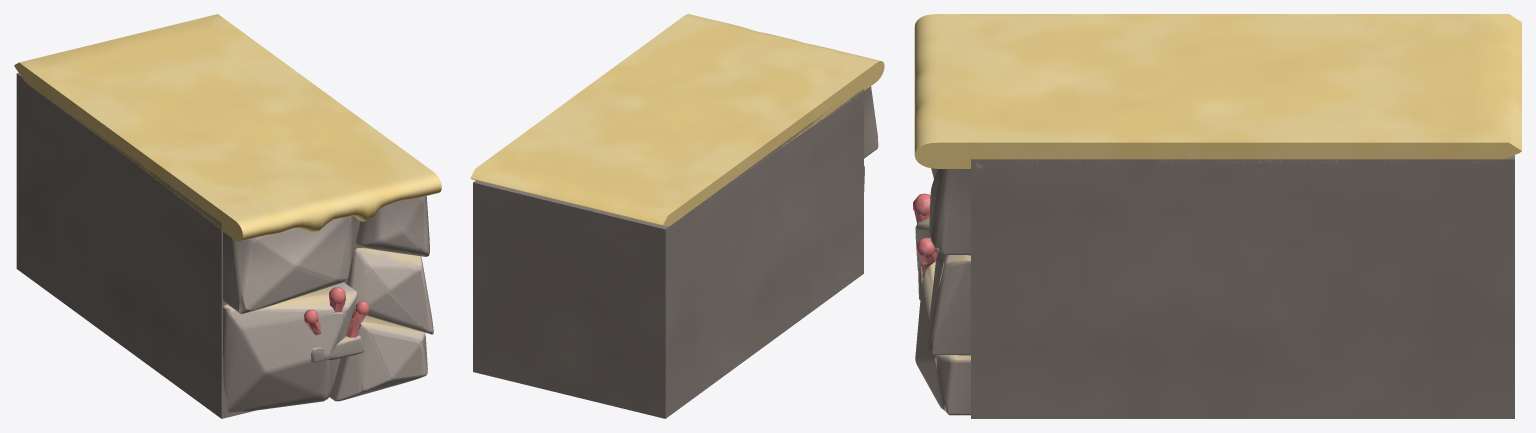
The model's file is CC_T01_SandCliffCore_V3.fbx.
The picture shows the model from 3 angles, left to right: view 1: azimuth 30°, elevation 25°; view 2: azimuth 150°, elevation 25°; view 3: azimuth 270°, elevation 25°; orthographic projection. The views are drawn at different scales.
Visible parts, largest first — view 1: Rock, SandCap; view 2: Rock, SandCap; view 3: Rock, SandCap.
Part boxes in pixels (x1,y1,x2,y2): Rock: (16, 73, 433, 418); SandCap: (14, 14, 441, 241); Rock: (473, 86, 878, 418); SandCap: (470, 14, 884, 226); Rock: (913, 155, 1514, 418); SandCap: (914, 14, 1521, 168).
Bounding box in the file's own units: 2 × 2.01 × 4.
